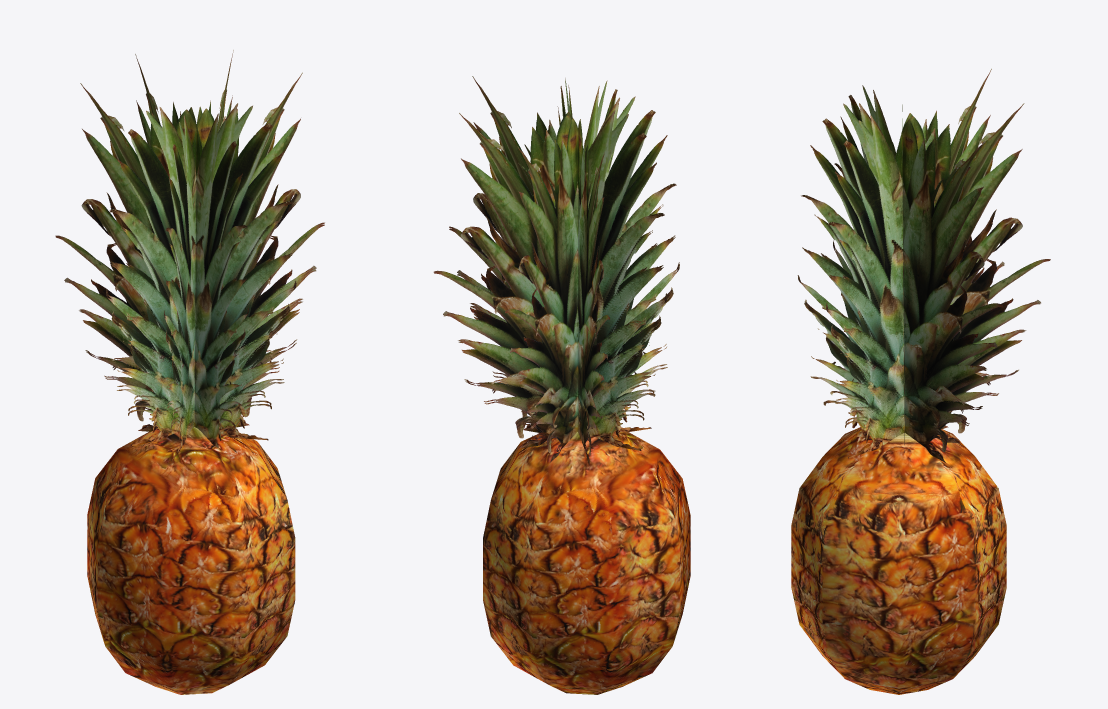
The model's file is Product_ananas.FBX.
3 renders of one model, left to right at view 1: azimuth 30°, elevation 25°; view 2: azimuth 150°, elevation 25°; view 3: azimuth 270°, elevation 25°, orthographic.
Visible parts, largest first — view 1: product_ananas_LOD00; view 2: product_ananas_LOD00; view 3: product_ananas_LOD00.
Part boxes in pixels (bbox=[...]): product_ananas_LOD00: bbox=[55, 50, 324, 694]; product_ananas_LOD00: bbox=[433, 76, 690, 694]; product_ananas_LOD00: bbox=[791, 68, 1050, 694].
Size of what is drawn, in the model's own units: 0.2551 by 0.5007 by 0.2527.
